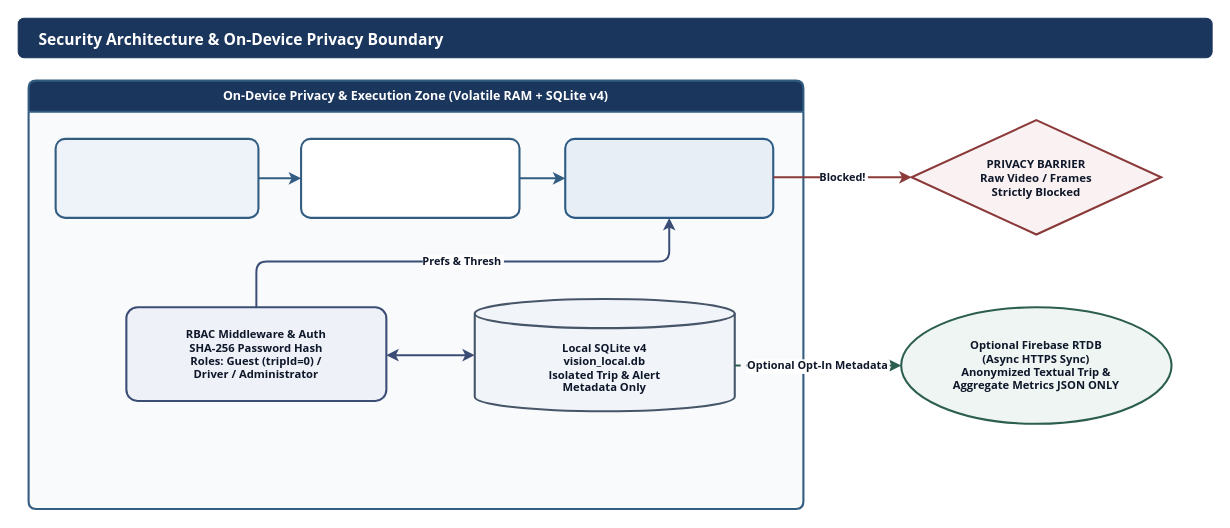
The diagram is 1230 pixels wide and 528 high, and some of its shapes have lost their labels. The centre of each missing label's shape, as x and y in pixels:
CameraX API Input Live Sensor Stream (No Disk Video Save): pixel 156 177
Volatile RAM Buffer 640x640 RGB Tensor (Discarded Immediately): pixel 410 177
YOLOv11n ONNX + Dual Sign Verifiers (100% Offline Edge AI): pixel 669 177
